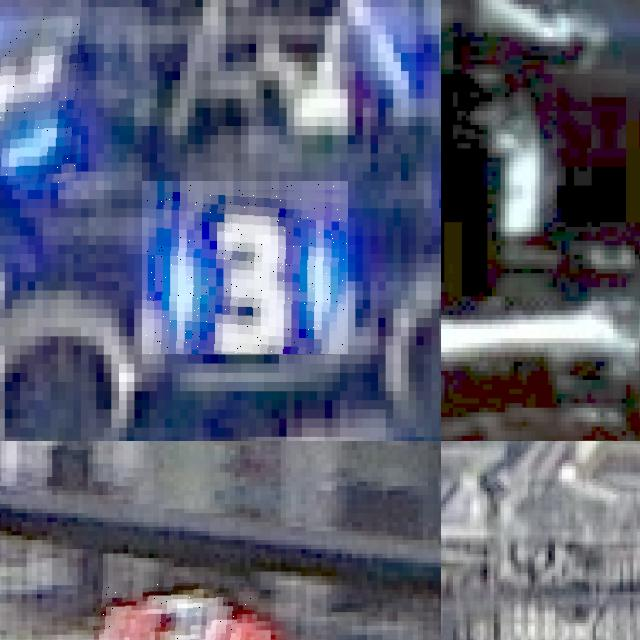B3: (142, 181, 348, 354), (0, 16, 88, 189)
R2: (92, 583, 260, 640)
